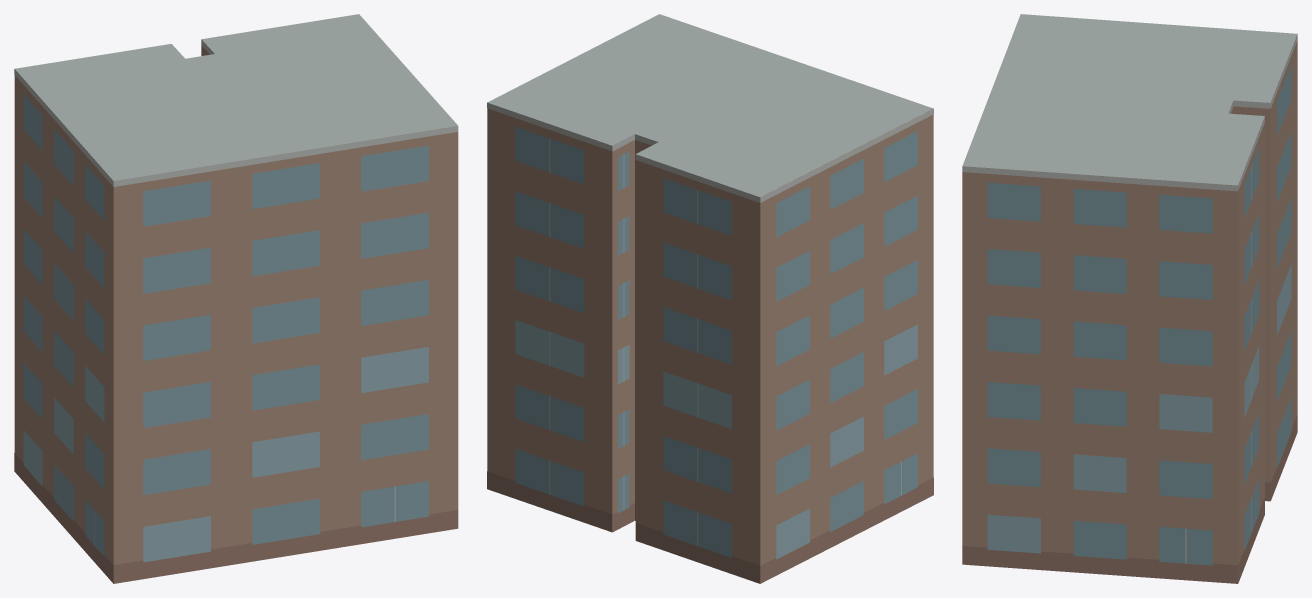
File: survey-upis-33047096.glb
3 renders of one model, left to right at view 1: azimuth 30°, elevation 25°; view 2: azimuth 150°, elevation 25°; view 3: azimuth 270°, elevation 25°, orthographic. The views are drawn at different scales.
Parts seen in each view (by area): view 1: survey-upis-33047096.tmp; view 2: survey-upis-33047096.tmp; view 3: survey-upis-33047096.tmp.
Boxes of the visible parts, x1,y1,x2,y2 form: survey-upis-33047096.tmp: (14,14,458,583); survey-upis-33047096.tmp: (487,14,933,583); survey-upis-33047096.tmp: (962,14,1297,583).
Size of the model in its own units: 15.34 by 16.6 by 12.67.
